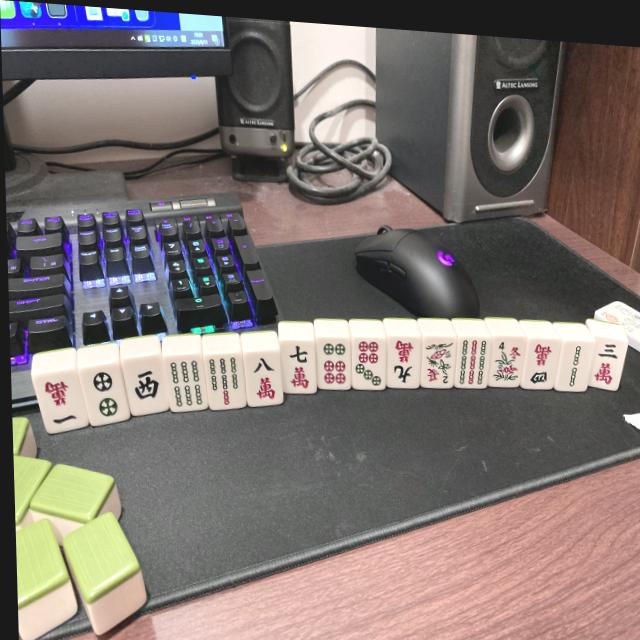ff2: (421, 338, 458, 388)
ff4: (489, 340, 525, 389)
m1: (33, 368, 90, 436)
m3: (589, 338, 630, 392)
m4: (522, 339, 560, 390)
m7: (280, 342, 317, 397)
m8: (244, 351, 284, 409)
m9: (386, 337, 422, 389)
s2: (557, 341, 595, 392)
s6: (165, 354, 208, 413)
s7: (205, 352, 247, 411)
s9: (455, 336, 492, 389)
t2: (80, 361, 133, 431)
t6: (316, 336, 353, 390)
t7: (352, 338, 387, 391)
west: (123, 356, 171, 420)
